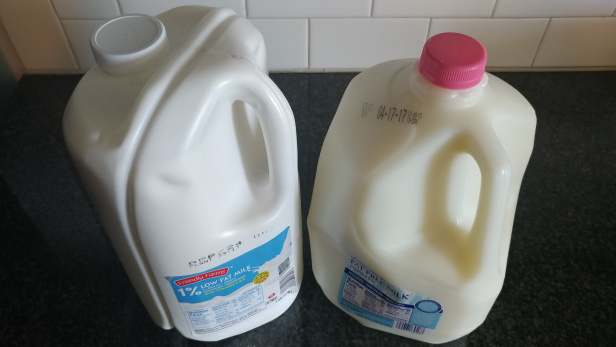milk: (66, 11, 305, 335), (317, 28, 541, 347)
